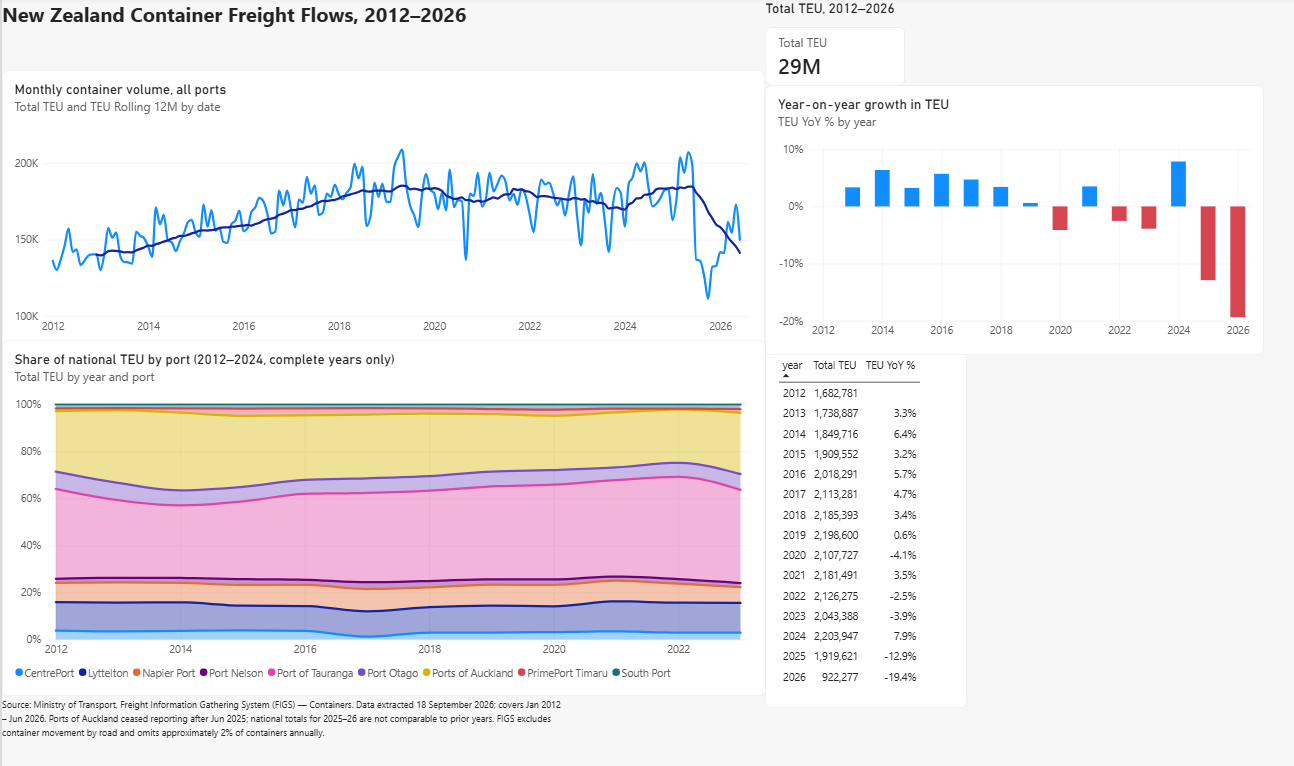

This screenshot's page, from the dashboard's own definition file:
{"tool":"powerbi","page":{"name":"Overview","canvas":[1920,1080],"ordinal":0},"visuals":[{"type":"tableEx","fields":{"Values":["dim_date.year","_Measures.Total TEU","_Measures.TEU YoY %"]},"box":[1018,478,268,486],"z":0},{"type":"textbox","box":[0,20,638,58],"z":1000},{"type":"cardVisual","title":"Total TEU, 2012–2026","fields":{"Data":["_Measures.Total TEU"]},"box":[1018,20,186,114],"z":2000},{"type":"lineChart","title":"Monthly container volume, all ports","fields":{"Category":["dim_date.date"],"Y":["_Measures.Total TEU","_Measures.TEU Rolling 12M"]},"box":[0,114,1017.1,402.9],"z":3000},{"type":"clusteredColumnChart","title":"Year-on-year growth in TEU","fields":{"Category":["dim_date.year"],"Y":["_Measures.TEU YoY %"]},"box":[1018,134,664,359],"z":4000},{"type":"hundredPercentStackedAreaChart","title":"Share of national TEU by port (2012–2024, complete years only)","fields":{"Category":["dim_date.year"],"Series":["dim_port.port"],"Y":["_Measures.Total TEU"]},"box":[0,474,1018,474],"z":5000},{"type":"textbox","box":[0,948,750,98],"z":6000}]}

Visuals, with their boxes on the page's 1920x1080 design canvas (x1, y1, x2, y2). These are canvas units, not pixel positions in the 1294x766 screenshot, which may show the page scaled, cropped or inside an application window:
tableEx - dim_date.year x _Measures.Total TEU: [1018, 478, 1286, 964]
textbox: [0, 20, 638, 78]
"Total TEU, 2012–2026" cardVisual: [1018, 20, 1204, 134]
"Monthly container volume, all ports" lineChart: [0, 114, 1017, 517]
"Year-on-year growth in TEU" clusteredColumnChart: [1018, 134, 1682, 493]
"Share of national TEU by port (2012–2024, complete years only)" hundredPercentStackedAreaChart: [0, 474, 1018, 948]
textbox: [0, 948, 750, 1046]
